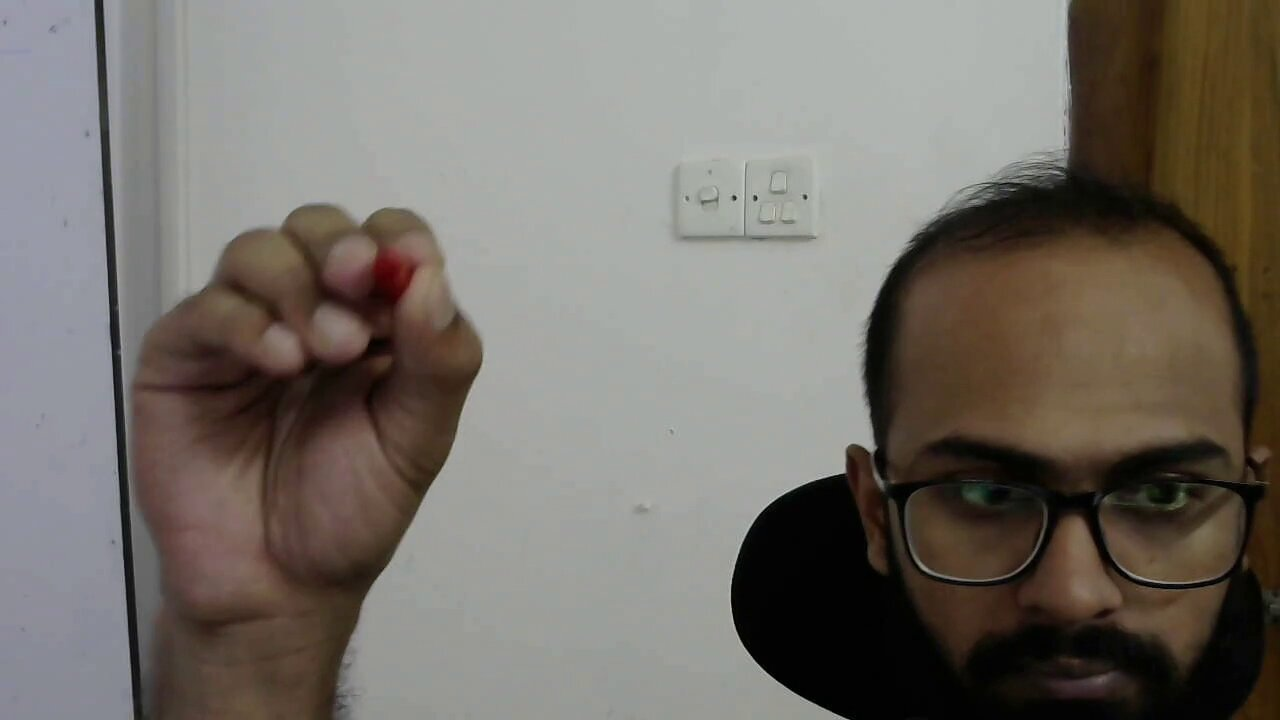pointer: (127, 195, 487, 513)
